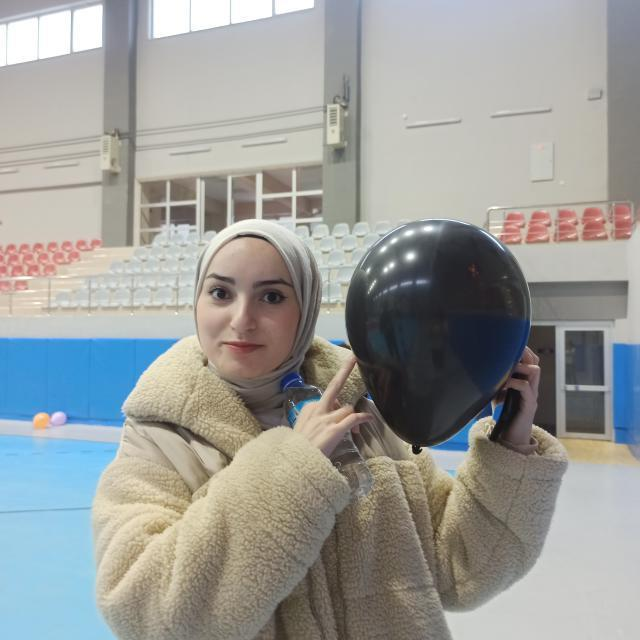balloon: (341, 214, 531, 448)
